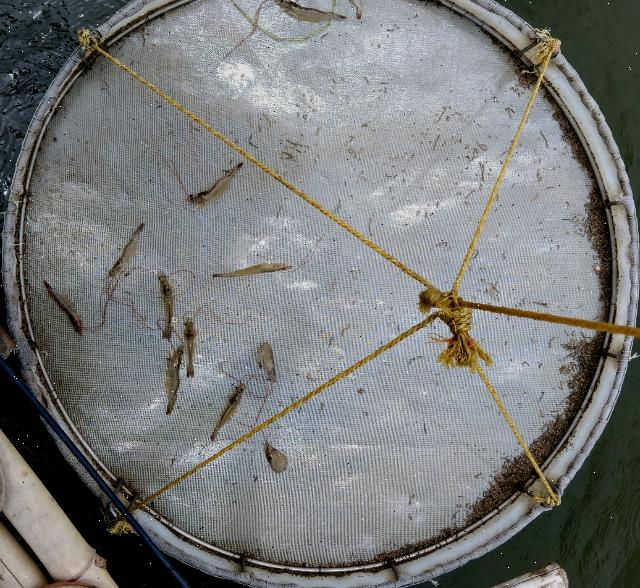shrimp: (187, 164, 242, 209), (44, 281, 83, 335), (211, 383, 245, 441), (108, 224, 143, 280), (275, 1, 345, 23), (166, 345, 183, 415), (213, 263, 291, 278), (158, 274, 173, 342), (183, 319, 196, 377), (257, 343, 274, 384), (264, 440, 285, 473)
